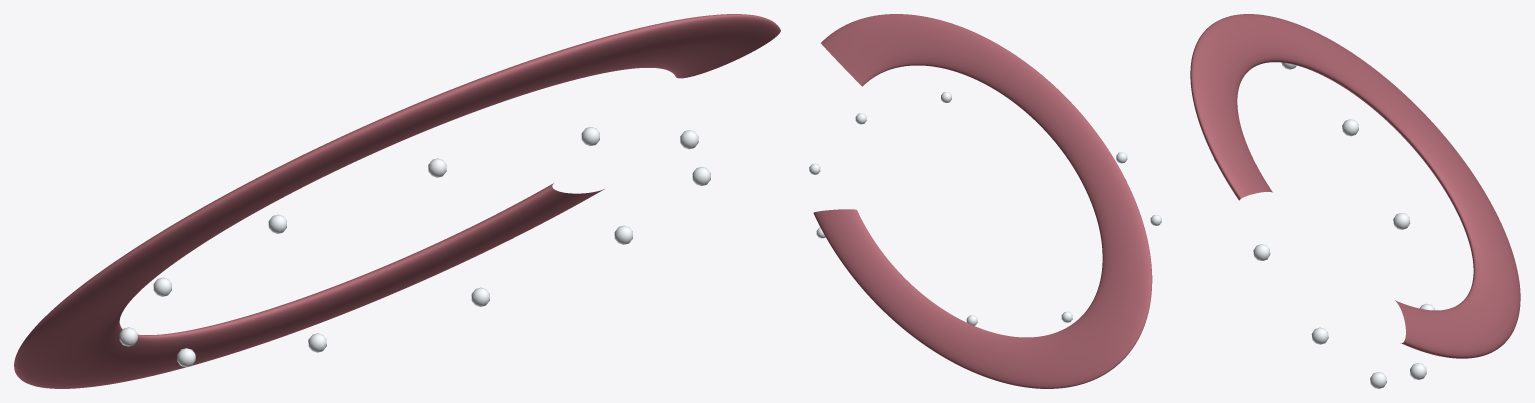
File: ayla-rose-gold-bangle.glb
3 renders of one model, left to right at view 1: azimuth 30°, elevation 25°; view 2: azimuth 150°, elevation 25°; view 3: azimuth 270°, elevation 25°, orthographic. The views are drawn at different scales.
Visible parts, largest first — view 1: cuff_body; view 2: cuff_body; view 3: cuff_body.
Part boxes in pixels (bbox=[...]): cuff_body: bbox=[14, 14, 780, 388]; cuff_body: bbox=[813, 14, 1152, 388]; cuff_body: bbox=[1190, 14, 1520, 358].
Size of the model in its own units: 2.34 by 1.39 by 1.15.
